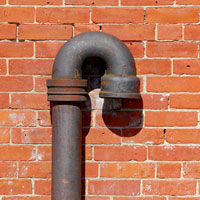Low: (45, 71, 91, 104), (103, 70, 140, 82)
